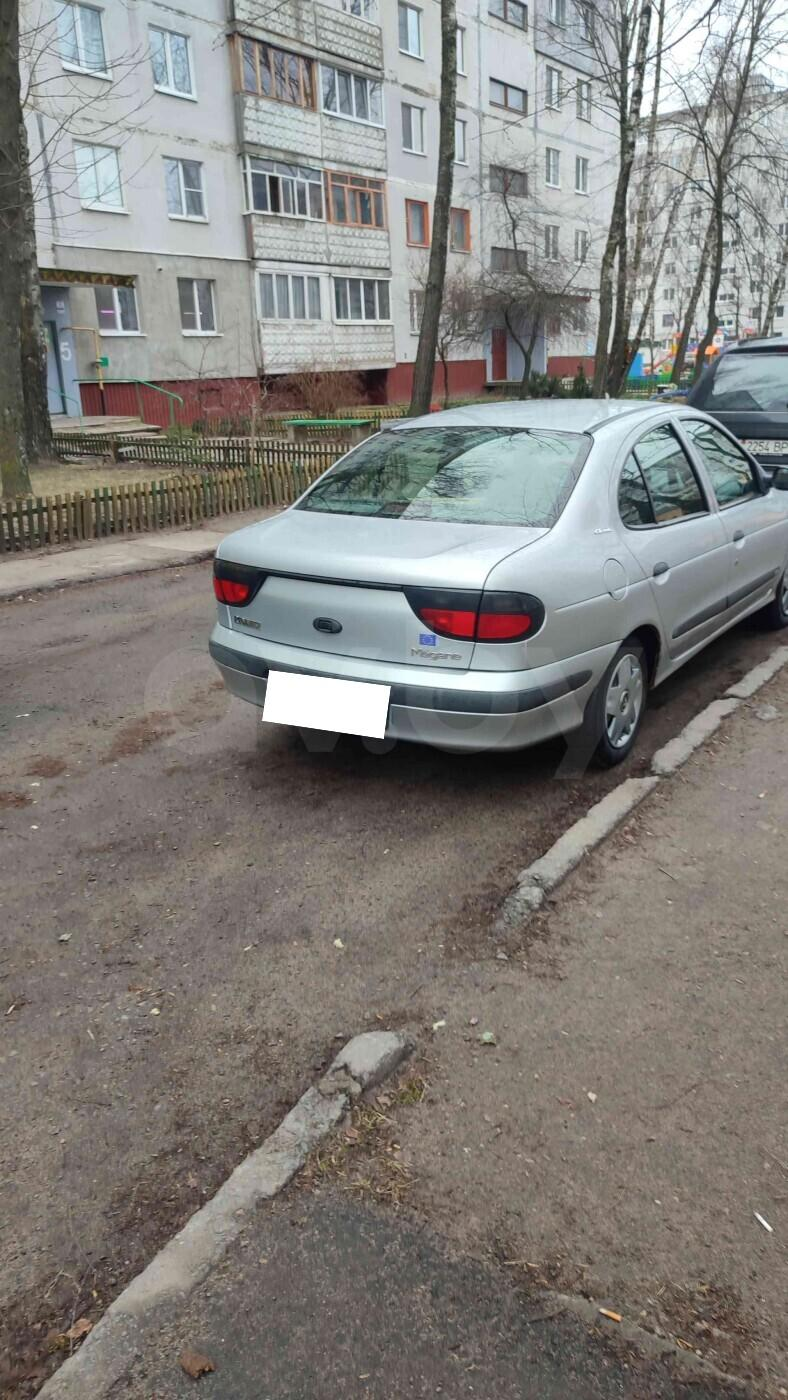Megane_1995-1999: (210, 390, 788, 788)
